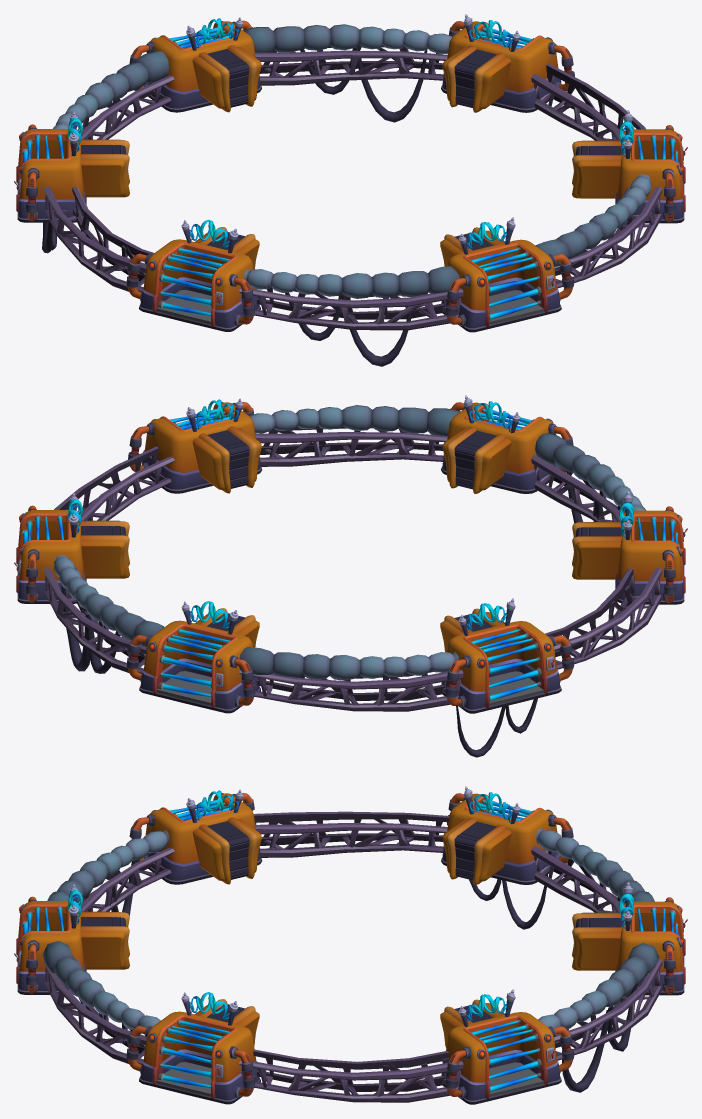
Rendered from SM_Prison_Сonstruction_05.fbx.
3 renders of one model, top to bottom at view 1: azimuth 30°, elevation 25°; view 2: azimuth 150°, elevation 25°; view 3: azimuth 270°, elevation 25°, orthographic.
Visible parts, largest first — view 1: SM_Prison_Сonstruction_05; view 2: SM_Prison_Сonstruction_05; view 3: SM_Prison_Сonstruction_05.
Part boxes in pixels (x1,y1,x2,y2): SM_Prison_Сonstruction_05: (14, 14, 687, 366); SM_Prison_Сonstruction_05: (14, 395, 687, 757); SM_Prison_Сonstruction_05: (14, 786, 687, 1104).
Size of the model in its own units: 35.61 by 8.67 by 37.89.
